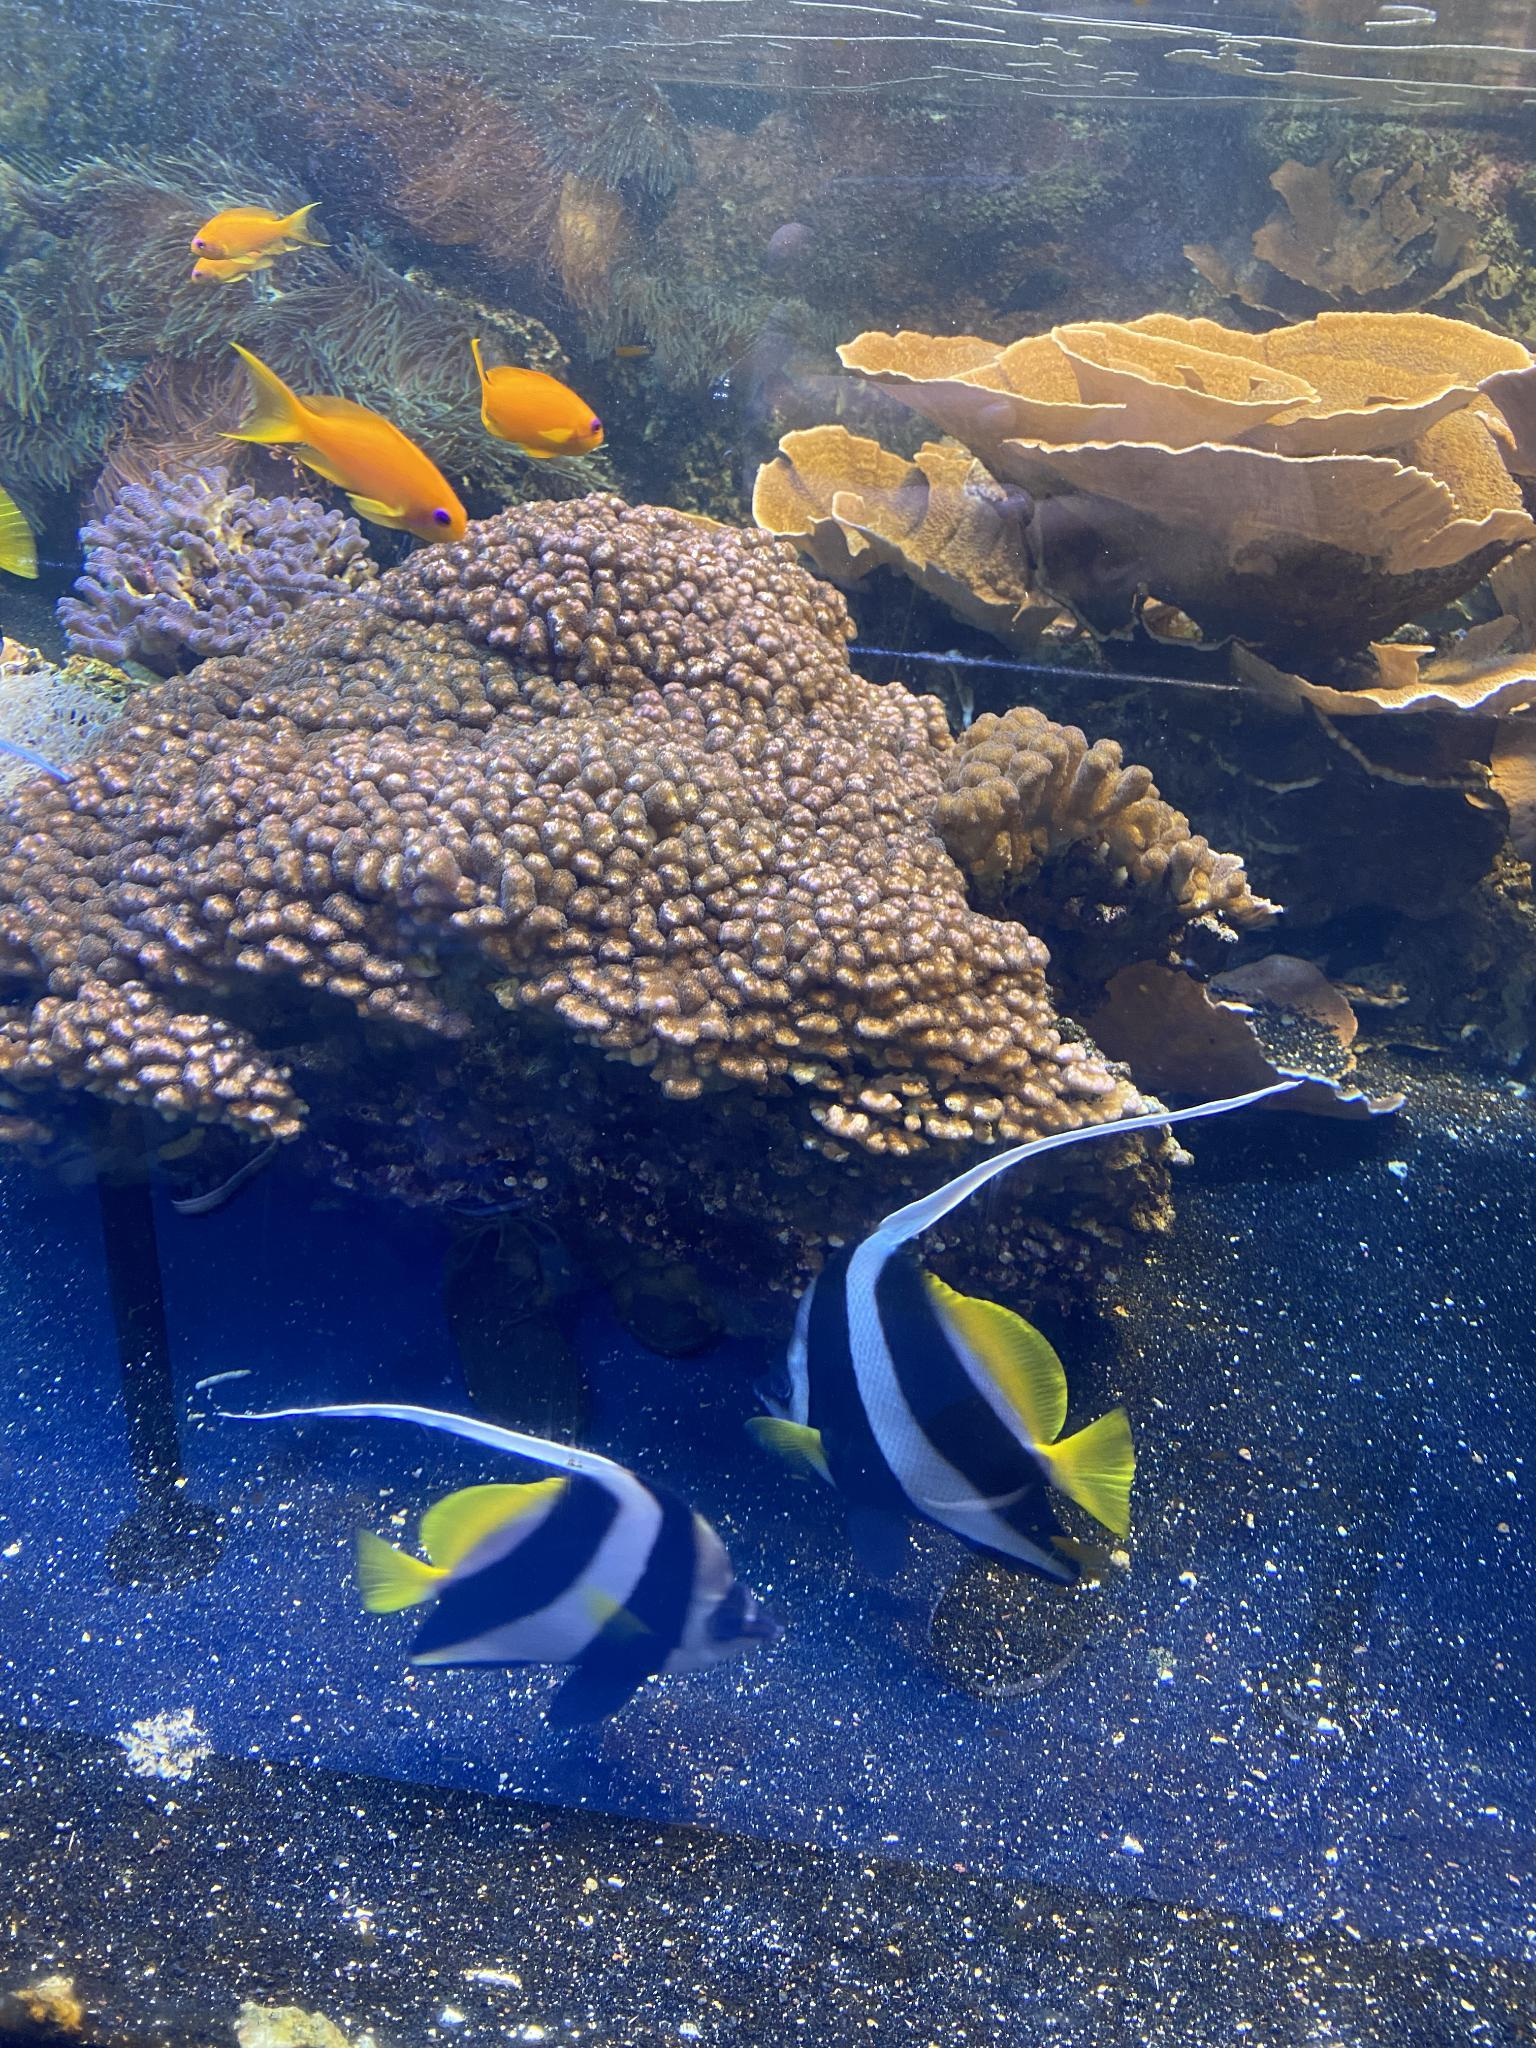fish: (708, 1105, 1231, 1564), (253, 1351, 741, 1725), (227, 337, 473, 576), (466, 348, 624, 485), (179, 190, 319, 248), (176, 231, 305, 293)
